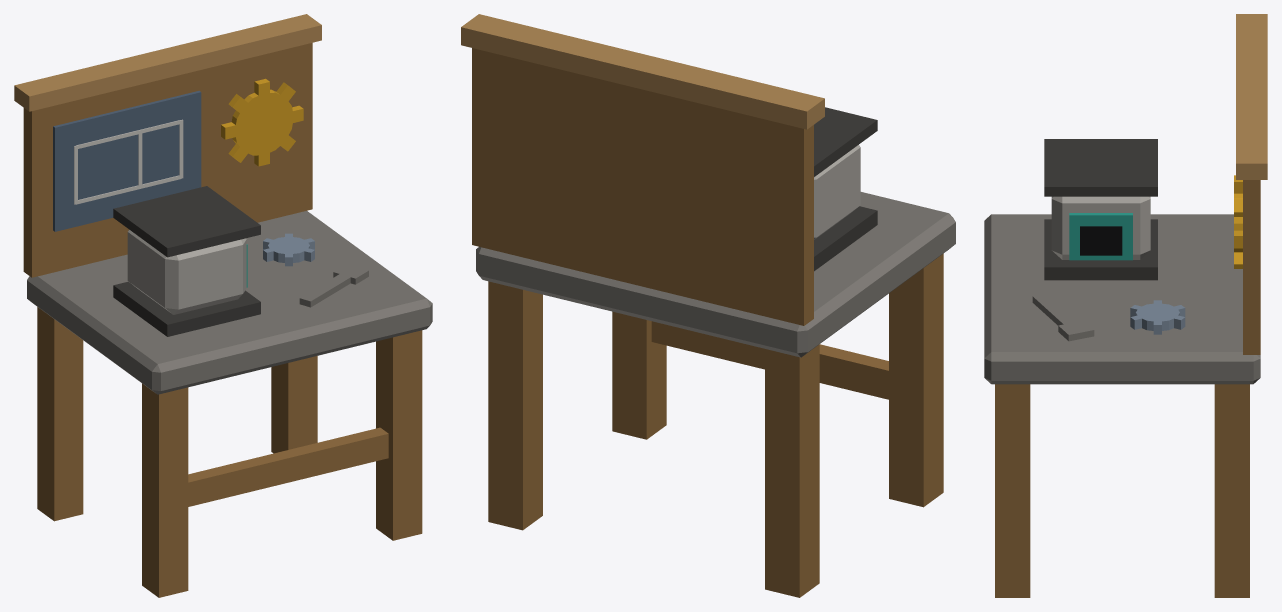
The model's file is wb_machine.fbx.
3 views of the same model, side by side, from view 1: azimuth 30°, elevation 25°; view 2: azimuth 150°, elevation 25°; view 3: azimuth 270°, elevation 25° (orthographic). The views are drawn at different scales.
Visible parts, largest first — view 1: wb_machine; view 2: wb_machine; view 3: wb_machine.
Boxes of the visible parts, x1,y1,x2,y2 form: wb_machine: [14, 14, 432, 597]; wb_machine: [461, 14, 955, 597]; wb_machine: [984, 14, 1267, 597].
Bounding box in the file's own units: 3 × 4.13 × 2.4.
